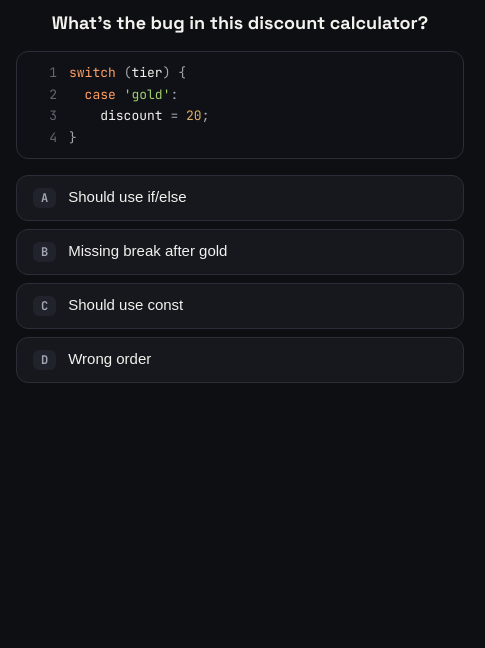
Test: PuzzleCardShell › desktop sidebar panel: renders a backtick span in the explanation as an actual <code> element, not literal backticks
What coordinates should you click on to do the following:
click the button "B Missing break after gold"
I would click on:
 (148, 251)
Its box is x1=16 y1=229 x2=464 y2=275.
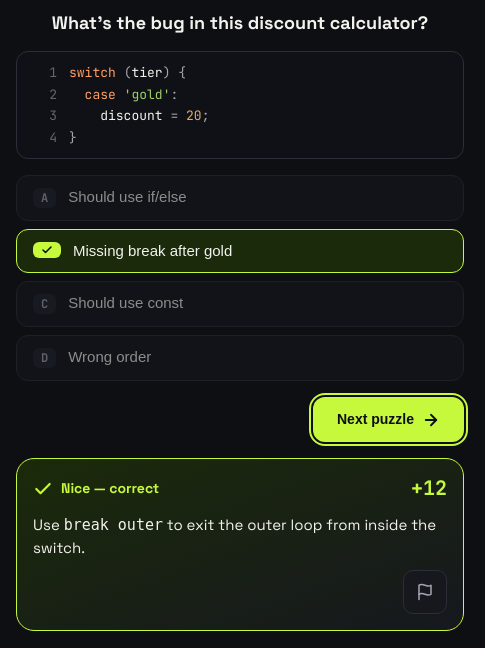
Result: the text "break outer" is shown at x1=64 y1=516 x2=163 y2=534
